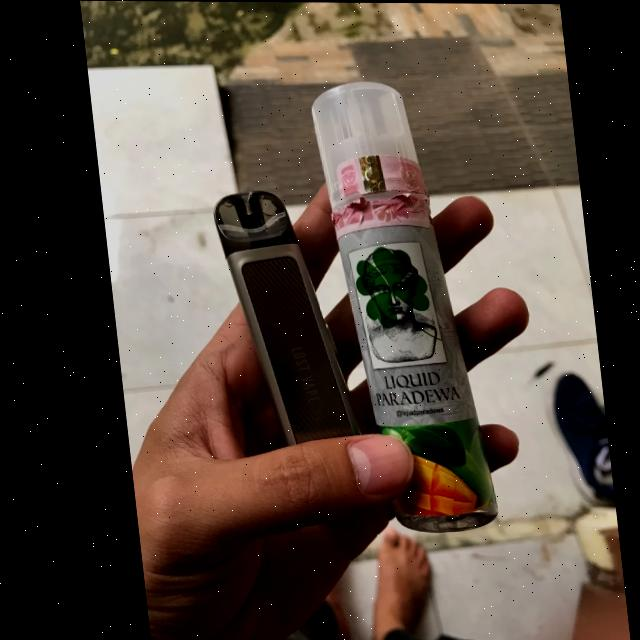vape: (207, 190, 354, 445)
